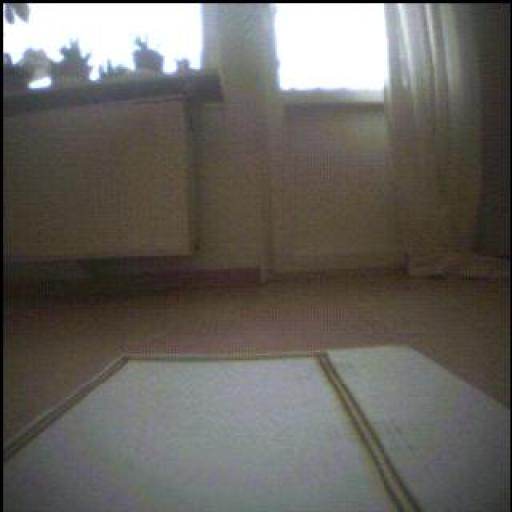Pad: (4, 350, 428, 512)
